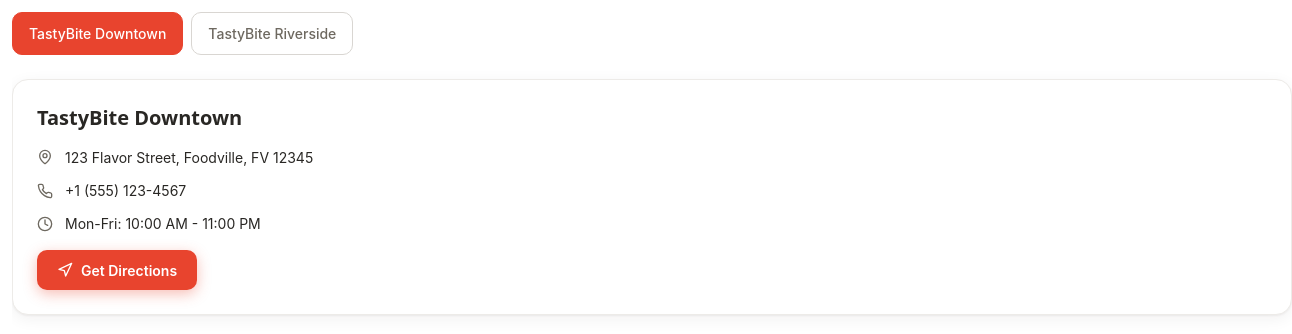
Test: LocationSelector › switches location on tab click
Click the tab "TastyBite Riverside" at (272,34), box [191, 12, 353, 55]
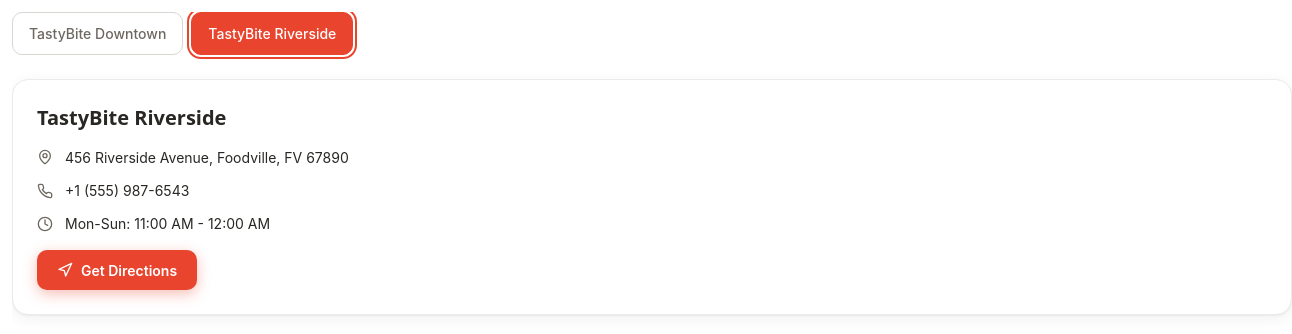
expect the text "456 Riverside Avenue, Foodville, FV 67890" is shown: met, box [65, 147, 349, 168]
expect the text "123 Flavor Street, Foodville, FV 12345" is gone: met
